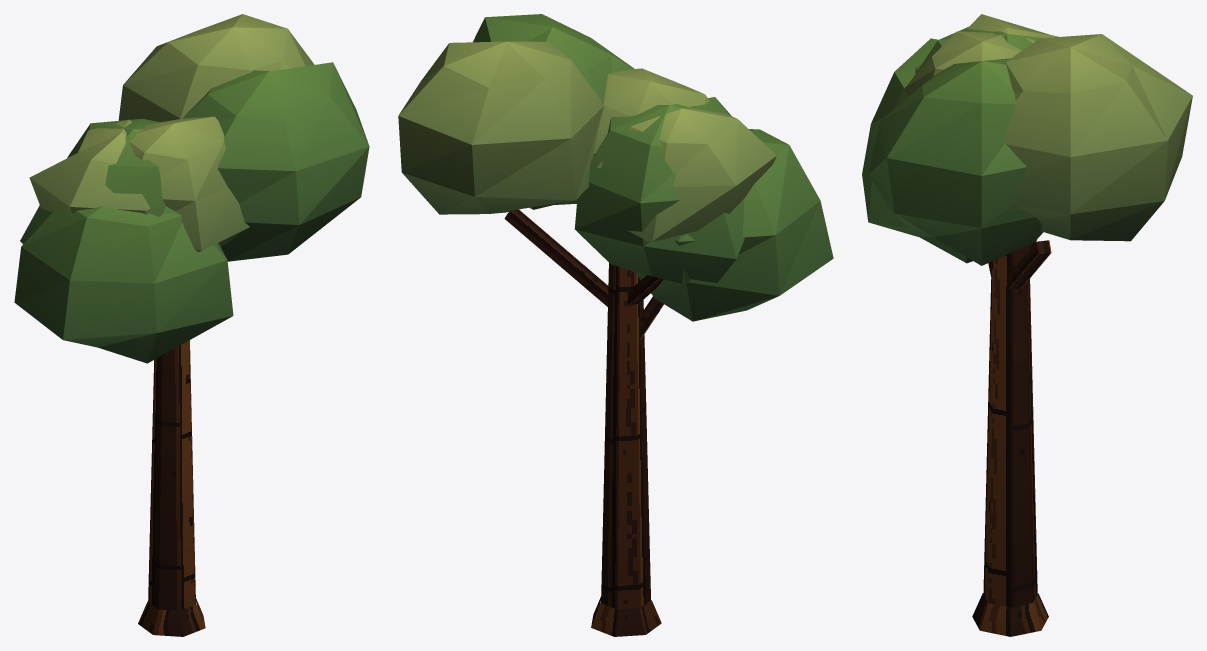
The model's file is birch_3_lowpoly.glb.
The picture shows the model from 3 angles, left to right: view 1: azimuth 30°, elevation 25°; view 2: azimuth 150°, elevation 25°; view 3: azimuth 270°, elevation 25°; orthographic projection. The views are drawn at different scales.
Parts seen in each view (by area): view 1: birch_3_lowpoly; view 2: birch_3_lowpoly; view 3: birch_3_lowpoly.
Boxes of the visible parts, bbox=[...] form: birch_3_lowpoly: bbox=[14, 14, 369, 636]; birch_3_lowpoly: bbox=[398, 14, 833, 636]; birch_3_lowpoly: bbox=[862, 14, 1192, 636].
Bounding box in the file's own units: 3.88 × 6.26 × 3.03.
2 materials, 1 textured.
